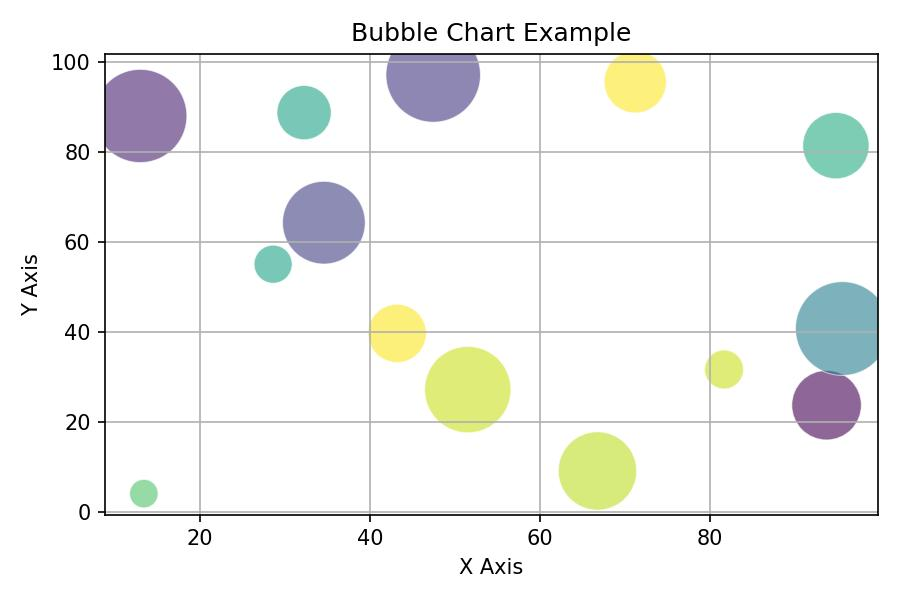axis: (99, 503, 889, 531), (85, 37, 117, 538)
circle: (103, 68, 189, 163), (424, 346, 515, 433), (798, 282, 878, 371), (283, 179, 364, 263), (387, 53, 480, 122), (558, 430, 638, 508), (790, 371, 864, 438), (802, 112, 871, 179), (601, 54, 669, 112), (368, 303, 428, 361), (277, 86, 333, 138), (704, 348, 747, 388), (254, 242, 294, 283), (129, 478, 160, 508)
